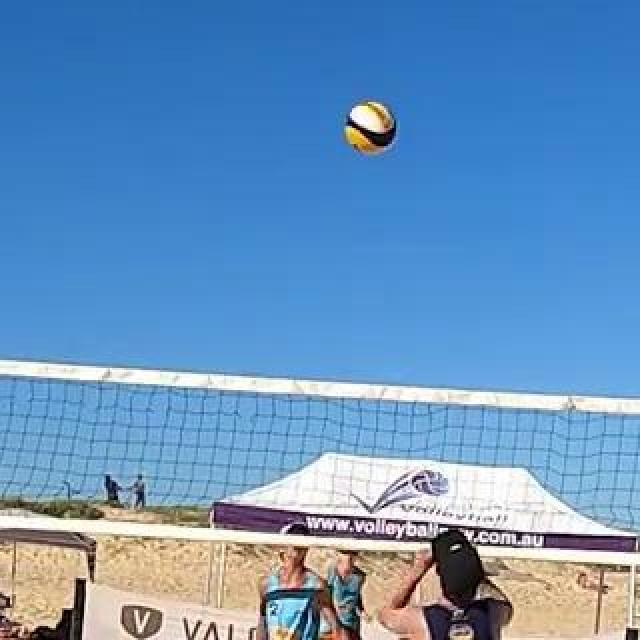volleyball: (348, 102, 398, 152)
